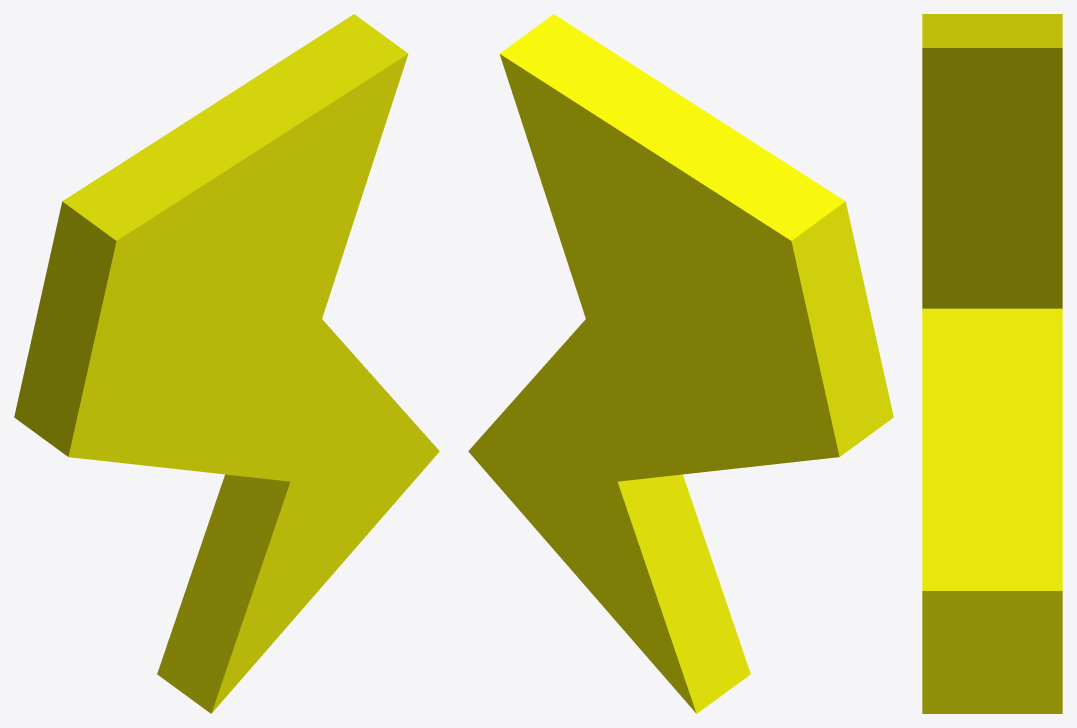
File: PowerUpLightning.fbx
3 views of the same model, side by side, from view 1: azimuth 30°, elevation 25°; view 2: azimuth 150°, elevation 25°; view 3: azimuth 270°, elevation 25° (orthographic). The views are drawn at different scales.
Parts seen in each view (by area): view 1: LightningBolt1; view 2: LightningBolt1; view 3: LightningBolt1.
Part boxes in pixels (x1=…): LightningBolt1: x1=14, y1=14, x2=439, y2=713; LightningBolt1: x1=468, y1=14, x2=893, y2=713; LightningBolt1: x1=922, y1=14, x2=1062, y2=713.
Bounding box in the file's own units: 43.89 × 69.11 × 11.1.
